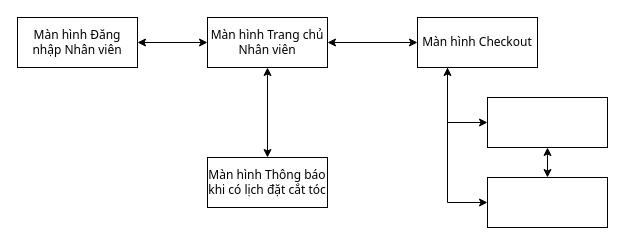
Image size: 625x245. Some labels were removed from this diagram. Here are the shapes that lost their labels. From the top down, the centre of each, then its label:
(x=547, y=122): Màn hình Chọn Dịch vụ
(x=547, y=202): Màn hình chọn Sản phẩm
